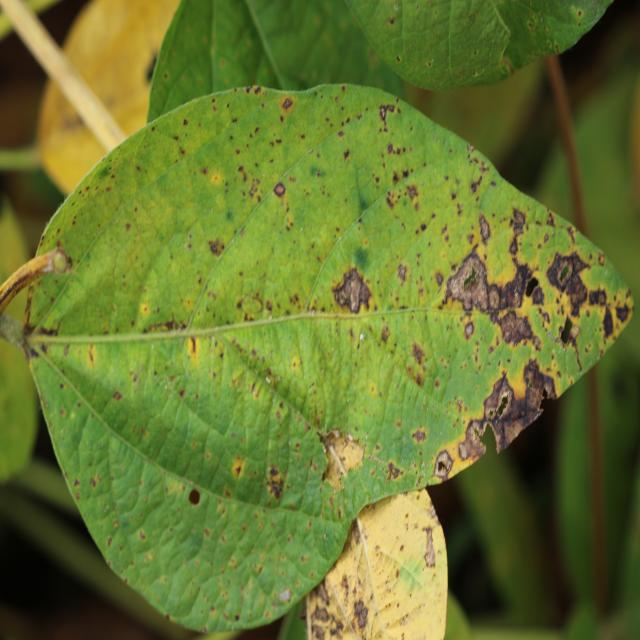Bacterial_Blight: (465, 361, 557, 463), (323, 269, 384, 329), (544, 248, 593, 311), (496, 308, 537, 348), (456, 424, 488, 465), (560, 320, 584, 367), (237, 292, 264, 320), (265, 466, 285, 502), (422, 525, 437, 568), (144, 319, 186, 334), (434, 450, 453, 477), (352, 247, 371, 274), (379, 103, 397, 127), (478, 212, 492, 240), (411, 342, 426, 368), (614, 303, 631, 324), (386, 462, 404, 481), (316, 582, 330, 606), (38, 323, 60, 337), (208, 238, 225, 256), (405, 183, 419, 204), (525, 277, 539, 298), (396, 262, 409, 284), (356, 607, 369, 629), (237, 164, 251, 184), (232, 457, 245, 478), (311, 621, 325, 639), (188, 488, 201, 506), (412, 428, 426, 443), (274, 182, 286, 197), (464, 321, 474, 339), (87, 346, 95, 366), (282, 97, 293, 110), (343, 148, 351, 161), (113, 390, 122, 401), (387, 143, 395, 154), (73, 478, 81, 488), (125, 222, 131, 232), (245, 85, 252, 93), (425, 60, 432, 67), (338, 130, 344, 137), (183, 118, 188, 126), (389, 18, 394, 25), (396, 55, 401, 62), (578, 10, 582, 17), (474, 50, 477, 55)
Soybean: (0, 85, 634, 630)
